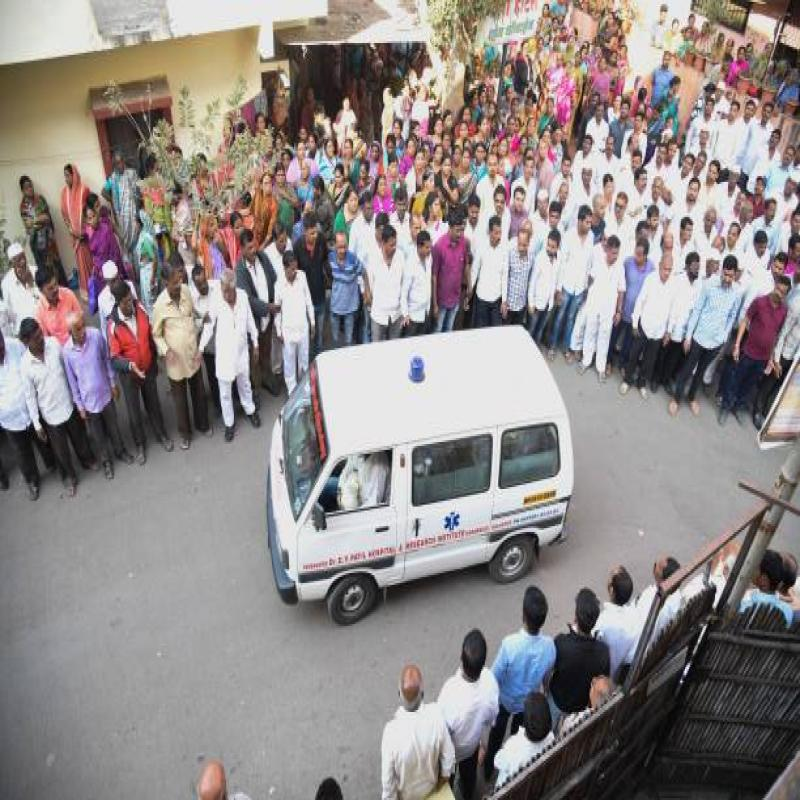AmbulanceSiren: (403, 346, 437, 397)
ambulance: (260, 323, 576, 619)
